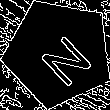N_NW: (26, 21, 91, 85)
